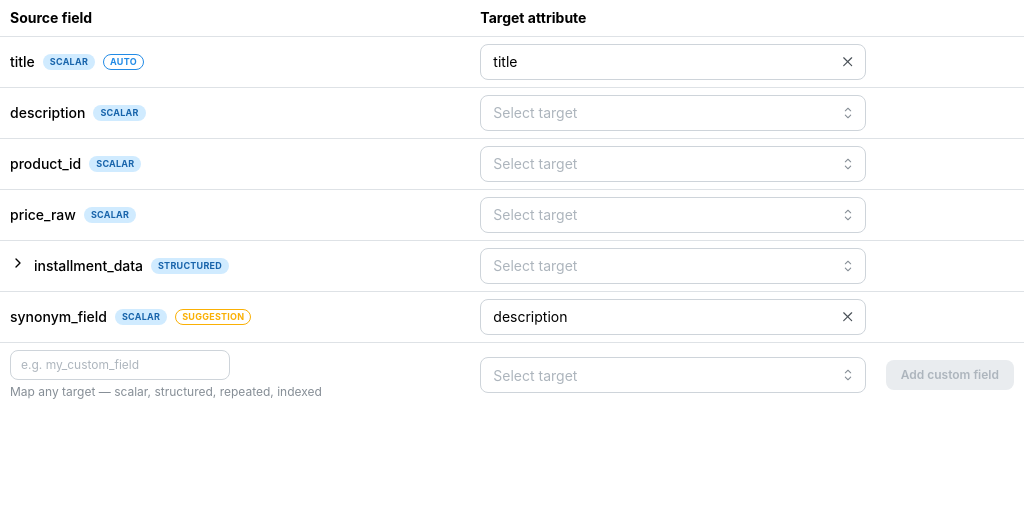
Scenario: MappingTable › sub-row shows error text for its dotted key
Expected: the text "installment_data" is shown, 34,256 -> 143,276
Click the button named "Show sub-fields of installment_data" at (18, 266), box 10,253 -> 26,278
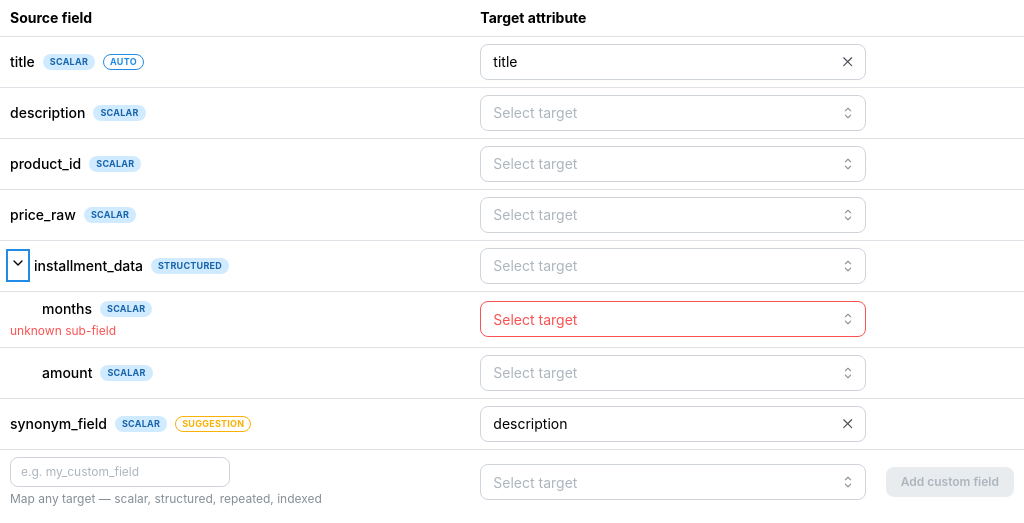
Now the text "unknown sub-field" is shown, box 10,323 -> 116,338
